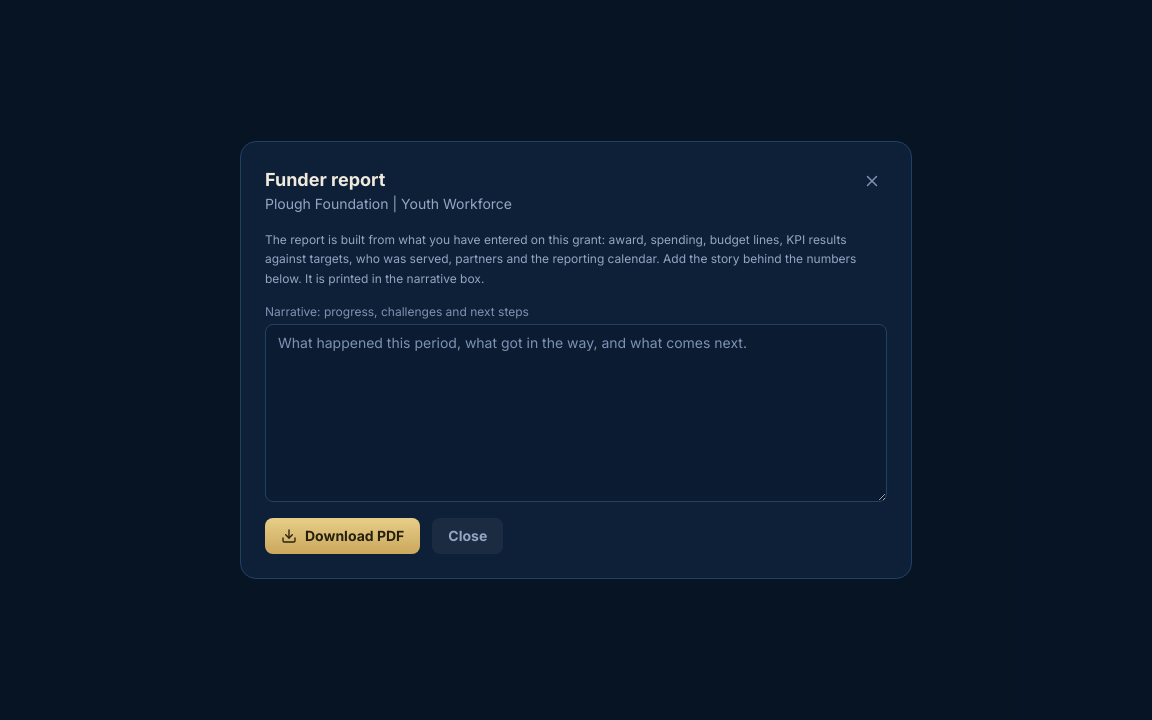
Test case: Funder report modal › shows an error instead of crashing if the PDF fails
The image size is (1152, 720).
Click the button "Download PDF": (343, 536) left=265, top=518, right=420, bottom=554
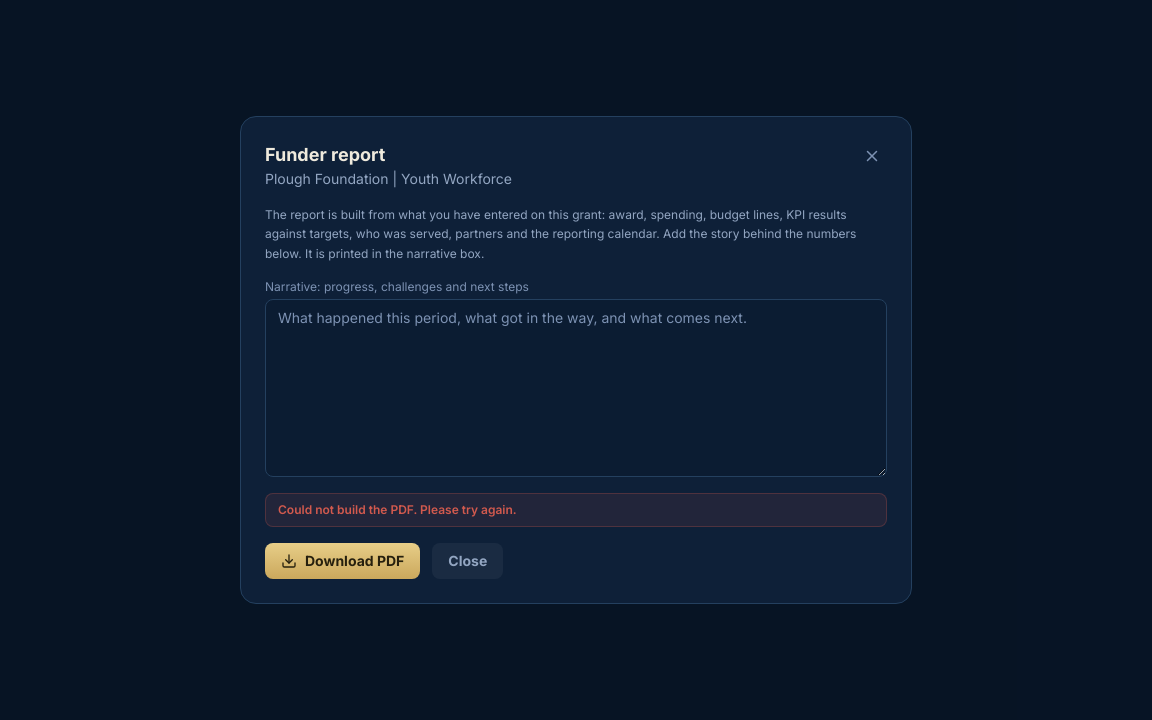
expect the message shows "Could not build the PDF": met, box left=278, top=502, right=517, bottom=517
